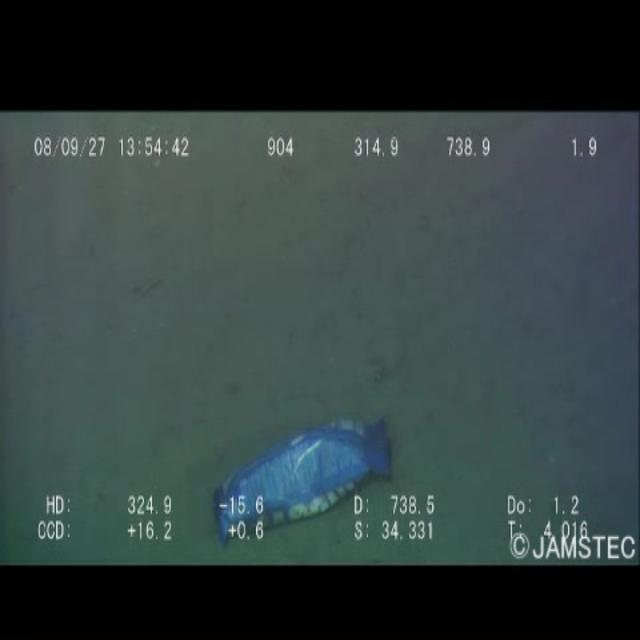Litter: (210, 407, 401, 545)
